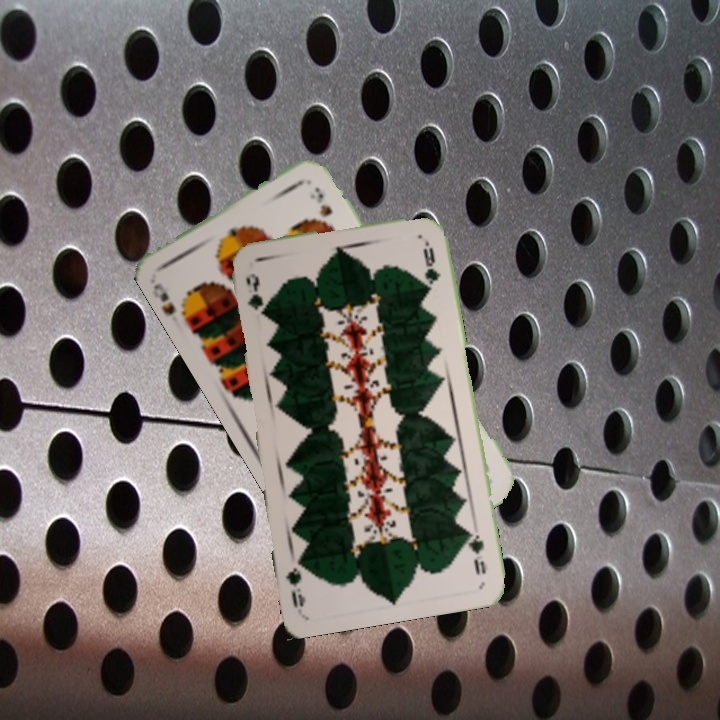G9: (462, 524, 489, 578), (242, 269, 264, 312)
S9: (149, 279, 194, 324)
